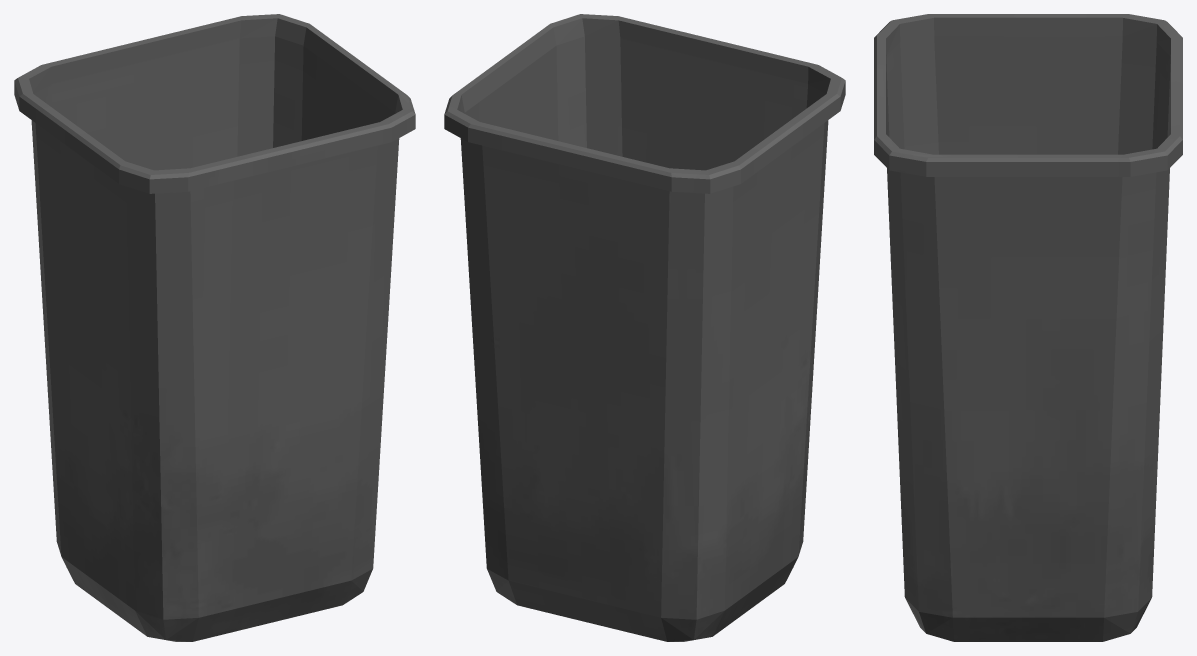
The model's file is strProp_48.glb.
3 renders of one model, left to right at view 1: azimuth 30°, elevation 25°; view 2: azimuth 150°, elevation 25°; view 3: azimuth 270°, elevation 25°, orthographic. The views are drawn at different scales.
Parts seen in each view (by area): view 1: geometry_0; view 2: geometry_0; view 3: geometry_0.
Boxes of the visible parts, bbox=[...] form: geometry_0: bbox=[14, 14, 415, 641]; geometry_0: bbox=[444, 14, 845, 641]; geometry_0: bbox=[874, 14, 1182, 641].
Size of the model in its own units: 0.6344 by 1.05 by 0.5661.
Materials: 1 (1 with a texture image).
